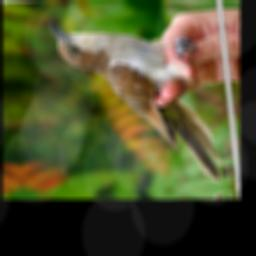Cuckoo: (48, 11, 224, 192)
